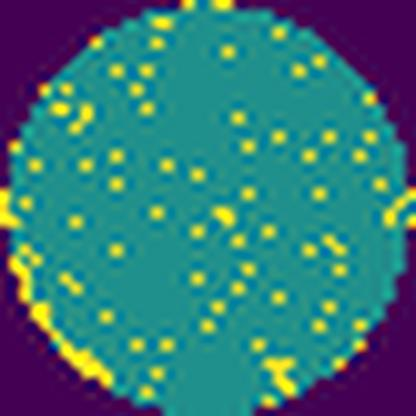Edge-Loc: (8, 246, 119, 388)
